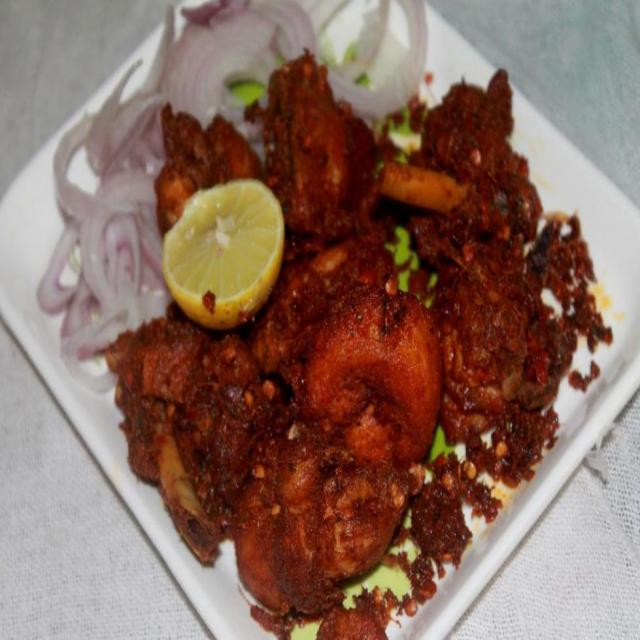chicken: (102, 58, 590, 640)
